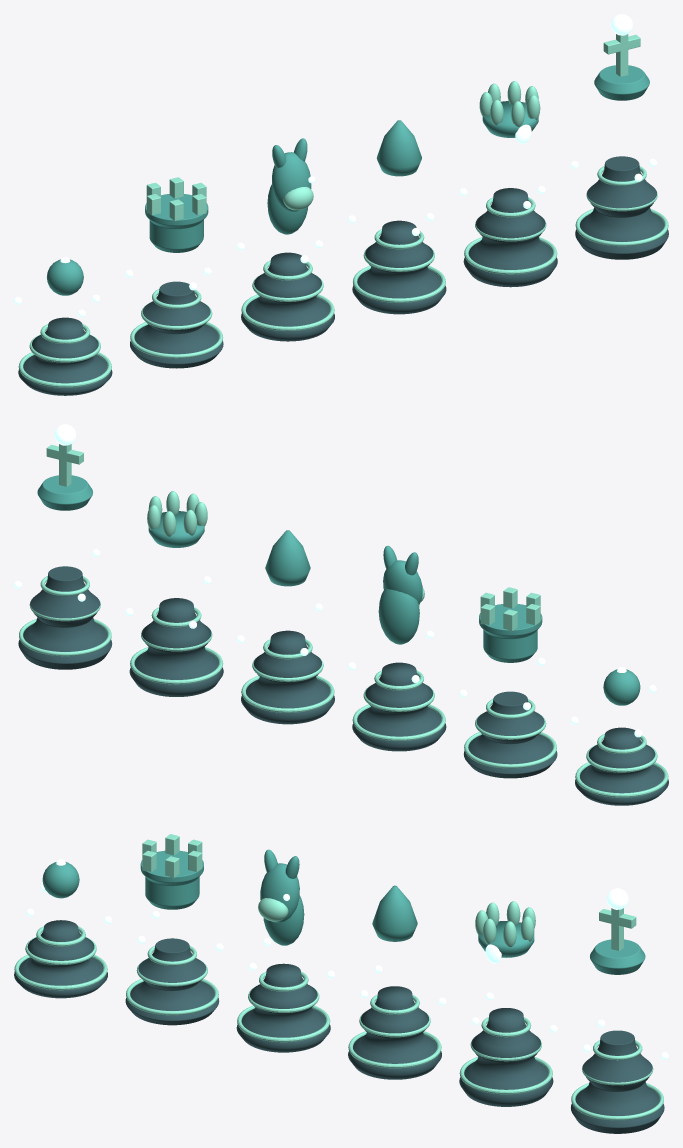
The model's file is 13_Alquimista_Eter_6_Piezas.glb.
The picture shows the model from 3 angles, top to bottom: view 1: azimuth 30°, elevation 25°; view 2: azimuth 150°, elevation 25°; view 3: azimuth 330°, elevation 25°; orthographic projection.
Visible parts, largest first — view 1: 13_Alquimista_Eter_Torre, 13_Alquimista_Eter_Rey, 13_Alquimista_Eter_Reina, 13_Alquimista_Eter_Caballo, 13_Alquimista_Eter_Alfil, 13_Alquimista_Eter_Peon; view 2: 13_Alquimista_Eter_Torre, 13_Alquimista_Eter_Rey, 13_Alquimista_Eter_Caballo, 13_Alquimista_Eter_Reina, 13_Alquimista_Eter_Alfil, 13_Alquimista_Eter_Peon; view 3: 13_Alquimista_Eter_Torre, 13_Alquimista_Eter_Rey, 13_Alquimista_Eter_Reina, 13_Alquimista_Eter_Caballo, 13_Alquimista_Eter_Alfil, 13_Alquimista_Eter_Peon.
Boxes of the visible parts, x1,y1,x2,y2 form: 13_Alquimista_Eter_Torre: [125, 177, 223, 368]; 13_Alquimista_Eter_Rey: [570, 14, 668, 259]; 13_Alquimista_Eter_Reina: [459, 81, 557, 287]; 13_Alquimista_Eter_Caballo: [236, 138, 334, 341]; 13_Alquimista_Eter_Alfil: [348, 120, 446, 314]; 13_Alquimista_Eter_Peon: [14, 256, 112, 395]; 13_Alquimista_Eter_Torre: [459, 587, 557, 778]; 13_Alquimista_Eter_Rey: [14, 424, 112, 669]; 13_Alquimista_Eter_Caballo: [348, 545, 446, 751]; 13_Alquimista_Eter_Reina: [125, 491, 223, 696]; 13_Alquimista_Eter_Alfil: [236, 530, 334, 724]; 13_Alquimista_Eter_Peon: [570, 666, 668, 805]; 13_Alquimista_Eter_Torre: [125, 834, 223, 1025]; 13_Alquimista_Eter_Rey: [571, 888, 668, 1133]; 13_Alquimista_Eter_Reina: [459, 901, 557, 1106]; 13_Alquimista_Eter_Caballo: [236, 849, 334, 1052]; 13_Alquimista_Eter_Alfil: [348, 885, 446, 1079]; 13_Alquimista_Eter_Peon: [14, 859, 112, 998].
Size of the model in its own units: 8.16 by 2.77 by 1.09.
